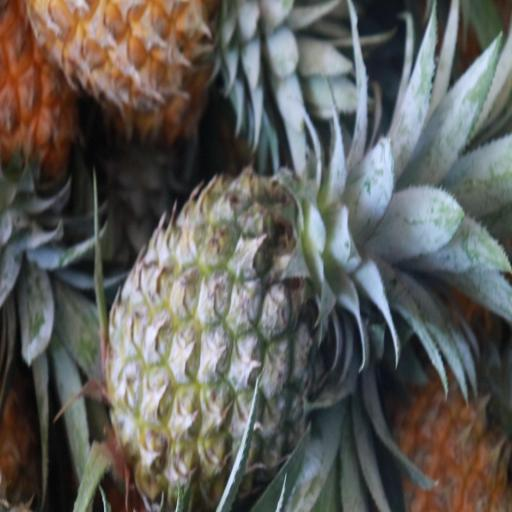------------------------------: (109, 174, 320, 506)
